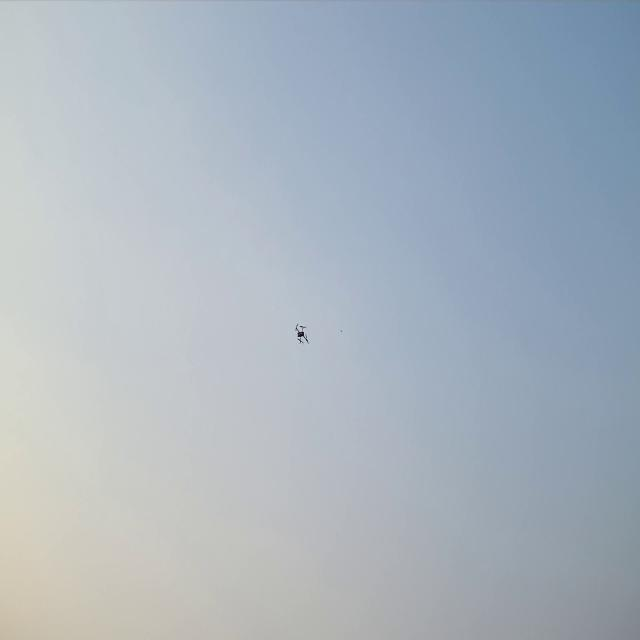UAV: (293, 322, 312, 347)
